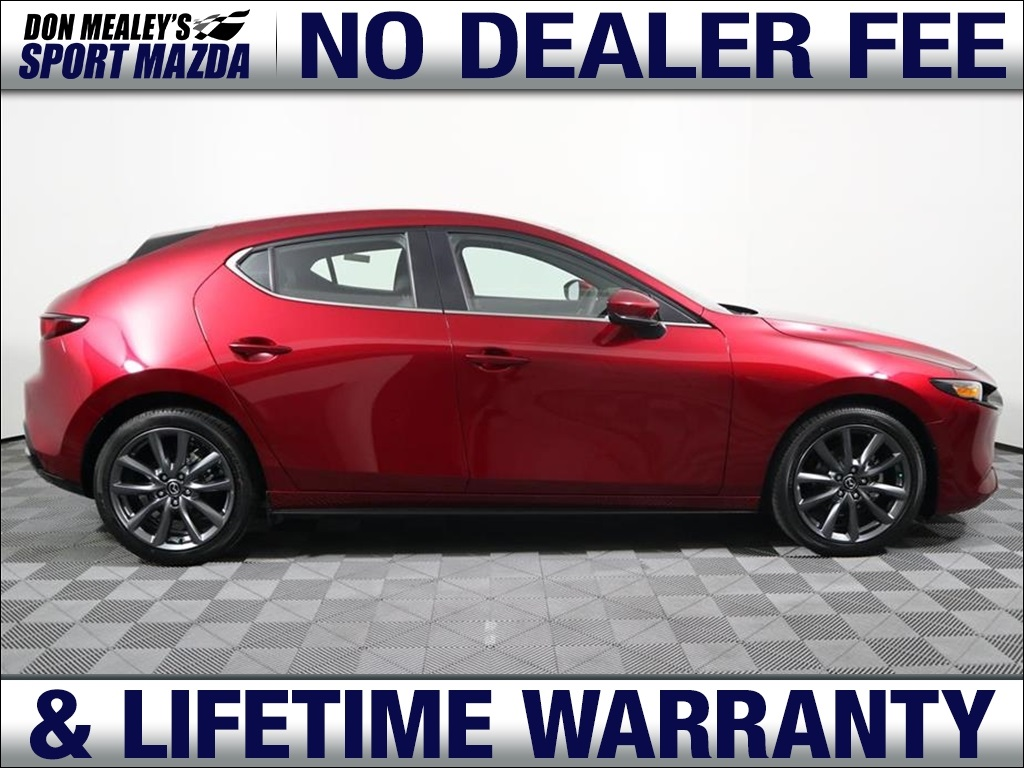Mazda3 Hatchback: (23, 208, 1003, 567)
